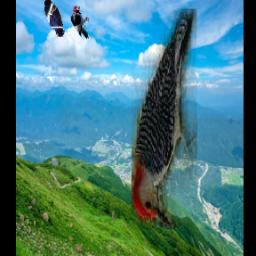Crow: (42, 0, 65, 37)
Woodpecker: (132, 9, 197, 228), (70, 3, 90, 40)
